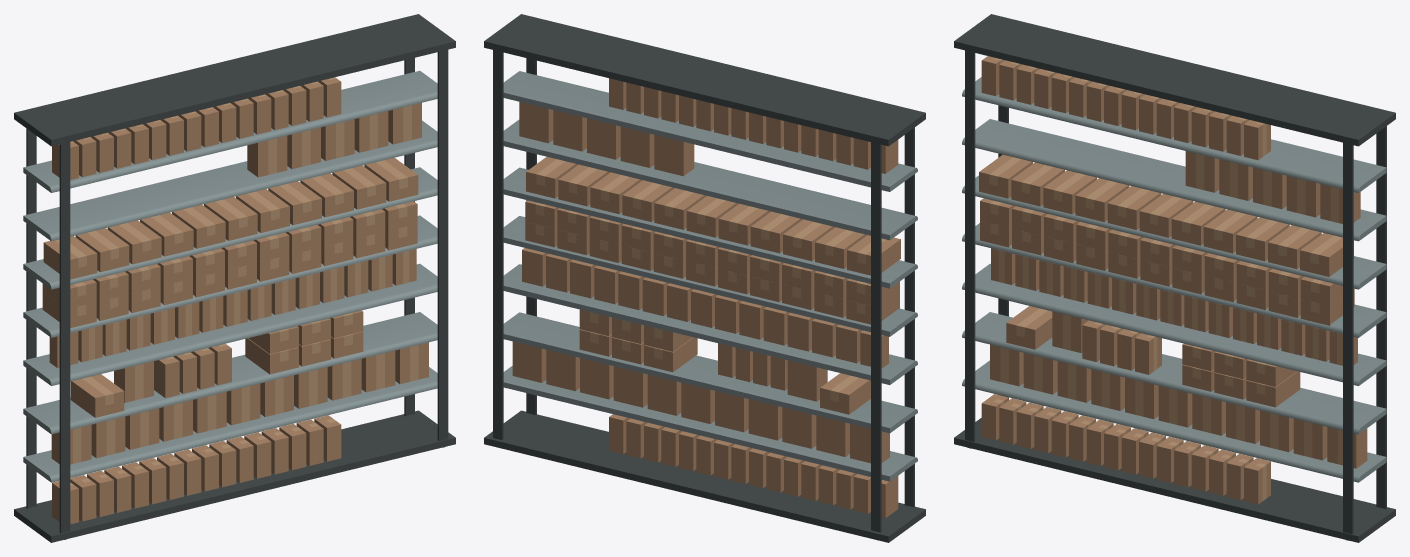
File: Archive-Bookshelf-1.fbx
3 renders of one model, left to right at view 1: azimuth 30°, elevation 25°; view 2: azimuth 150°, elevation 25°; view 3: azimuth 330°, elevation 25°, orthographic.
Parts seen in each view (by area): view 1: Archive-Bookshelf-1, Parcel-1.323, Parcel-1.284, Parcel-1.290, Parcel-1.282, Parcel-1.291, Parcel-1.283, Parcel-1.286, Parcel-1.285, Parcel-1.287, Parcel-1.289, Parcel-1.288 (+97 smaller); view 2: Archive-Bookshelf-1, Parcel-1.323, Parcel-1.303, Parcel-1.288, Parcel-1.286, Parcel-1.287, Parcel-1.284, Parcel-1.291, Parcel-1.285, Parcel-1.289, Parcel-1.290, Parcel-1.281 (+82 smaller); view 3: Archive-Bookshelf-1, Parcel-1.323, Parcel-1.291, Parcel-1.282, Parcel-1.286, Parcel-1.287, Parcel-1.288, Parcel-1.283, Parcel-1.281, Parcel-1.284, Parcel-1.285, Parcel-1.290 (+97 smaller).
Part boxes in pixels (box(x1,y1,x2,y2)): Archive-Bookshelf-1: box(14, 14, 455, 542); Parcel-1.323: box(70, 374, 124, 417); Parcel-1.284: box(140, 212, 193, 256); Parcel-1.290: box(332, 165, 386, 209); Parcel-1.282: box(75, 228, 129, 272); Parcel-1.291: box(364, 157, 418, 201); Parcel-1.283: box(107, 220, 161, 264); Parcel-1.286: box(204, 197, 257, 240); Parcel-1.285: box(172, 204, 225, 248); Parcel-1.287: box(236, 189, 289, 232); Parcel-1.289: box(300, 173, 353, 217); Parcel-1.288: box(268, 181, 321, 225); Archive-Bookshelf-1: box(484, 14, 925, 542); Parcel-1.323: box(820, 373, 870, 414); Parcel-1.303: box(654, 134, 694, 176); Parcel-1.288: box(622, 180, 674, 221); Parcel-1.286: box(686, 196, 738, 237); Parcel-1.287: box(654, 188, 706, 229); Parcel-1.284: box(750, 211, 802, 253); Parcel-1.291: box(526, 157, 578, 198); Parcel-1.285: box(718, 203, 770, 245); Parcel-1.289: box(590, 172, 642, 214); Parcel-1.290: box(558, 164, 610, 206); Parcel-1.281: box(847, 235, 900, 275); Archive-Bookshelf-1: box(954, 14, 1395, 542); Parcel-1.323: box(1006, 306, 1052, 349); Parcel-1.291: box(1300, 233, 1353, 276); Parcel-1.282: box(1011, 162, 1064, 206); Parcel-1.286: box(1139, 194, 1193, 237); Parcel-1.287: box(1171, 201, 1225, 245); Parcel-1.288: box(1203, 209, 1257, 253); Parcel-1.283: box(1043, 170, 1096, 214); Parcel-1.281: box(979, 154, 1032, 198); Parcel-1.284: box(1075, 178, 1129, 222); Parcel-1.285: box(1107, 186, 1161, 229); Parcel-1.290: box(1268, 225, 1321, 268).
Size of the model in its own units: 8.22 by 7.84 by 1.31.
